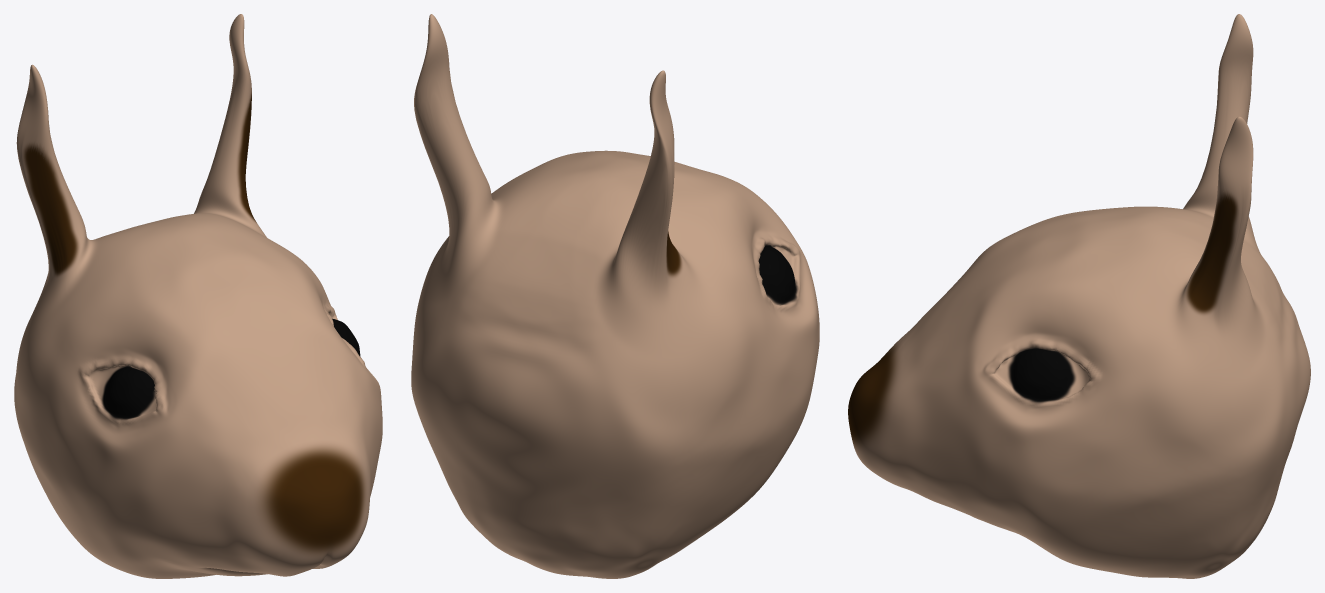
Rendered from squirrel_head.fbx.
The picture shows the model from 3 angles, left to right: view 1: azimuth 30°, elevation 25°; view 2: azimuth 150°, elevation 25°; view 3: azimuth 270°, elevation 25°; orthographic projection. The views are drawn at different scales.
Visible parts, largest first — view 1: cube; view 2: cube; view 3: cube.
Boxes of the visible parts, x1,y1,x2,y2 form: cube: [14, 14, 382, 578]; cube: [411, 14, 819, 578]; cube: [848, 14, 1310, 578].
Bounding box in the file's own units: 116 × 189 × 160.
Materials: 1 (1 with a texture image).
